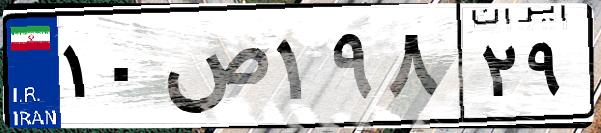0: (110, 28, 158, 98)
1: (270, 28, 330, 110), (57, 26, 110, 100)
2: (475, 38, 525, 113)
8: (385, 28, 445, 110)
9: (330, 28, 385, 110), (525, 38, 570, 115)
ص: (158, 20, 270, 120)
